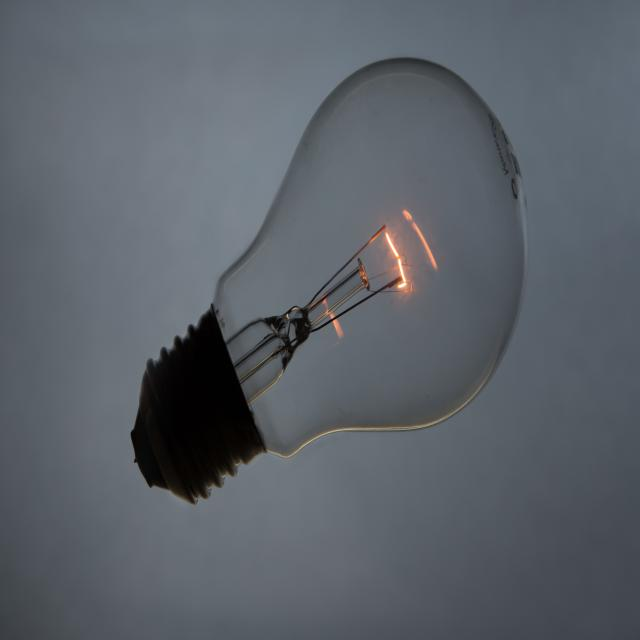Glass: (210, 58, 540, 498)
